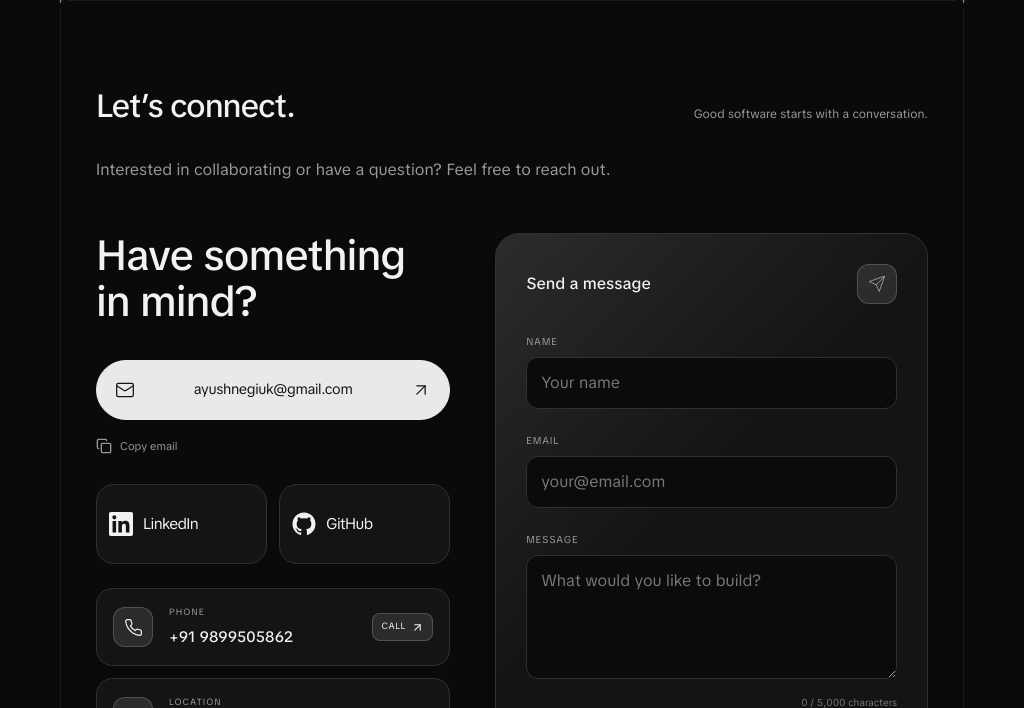
Test: Contact form › does not show success for an HTML fallback or a missing API confirmation
Type "  Dev Example  " into the field labelled "NAME" at (712, 383), box x1=526 y1=357 x2=897 y2=409
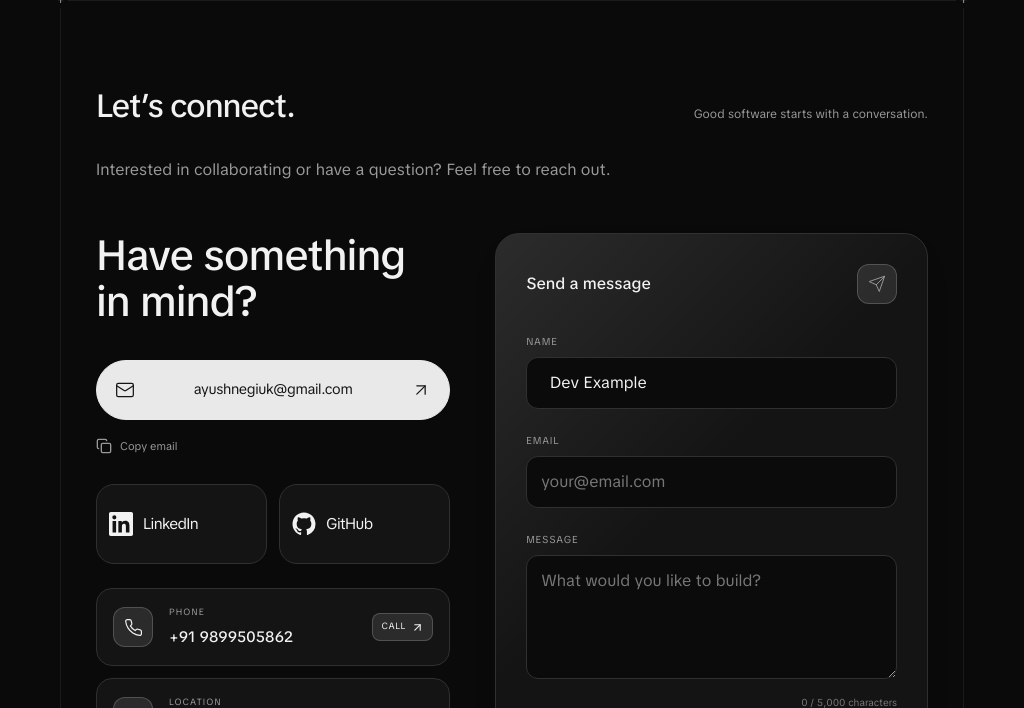
Type "dev@example.com" into the field labelled "EMAIL" at (712, 482), box x1=526 y1=456 x2=897 y2=508
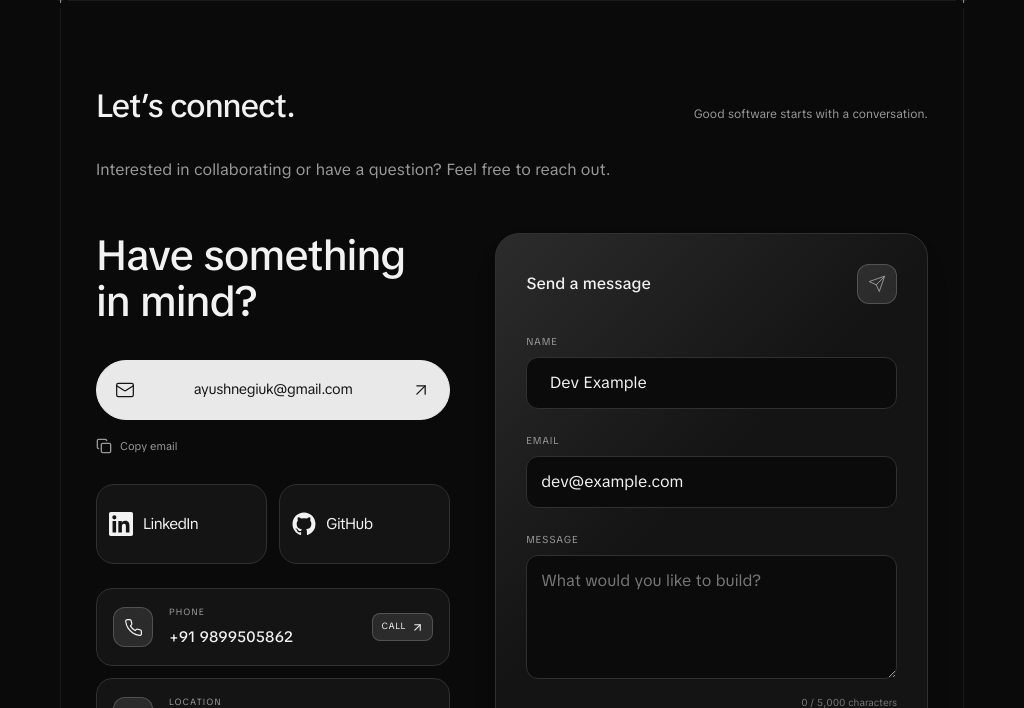
Type "  I would like to collaborate.  " into the text box labelled "MESSAGE" at (712, 617), box x1=526 y1=555 x2=897 y2=679
(page scrolled)
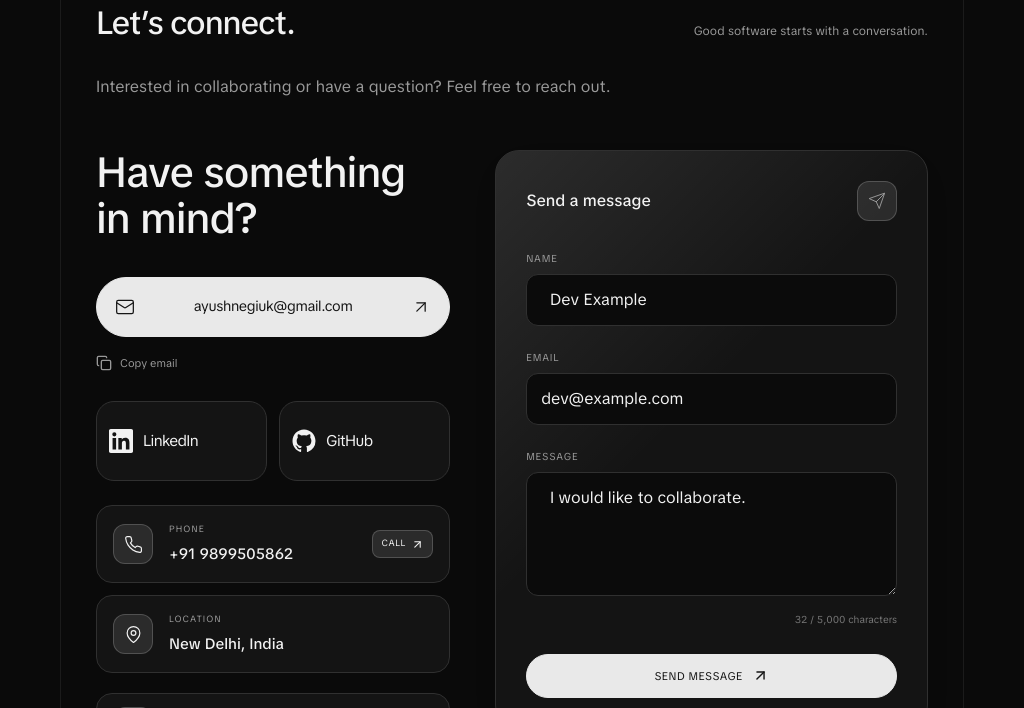
Submit the form "Send a message", box x1=526 y1=181 x2=897 y2=698
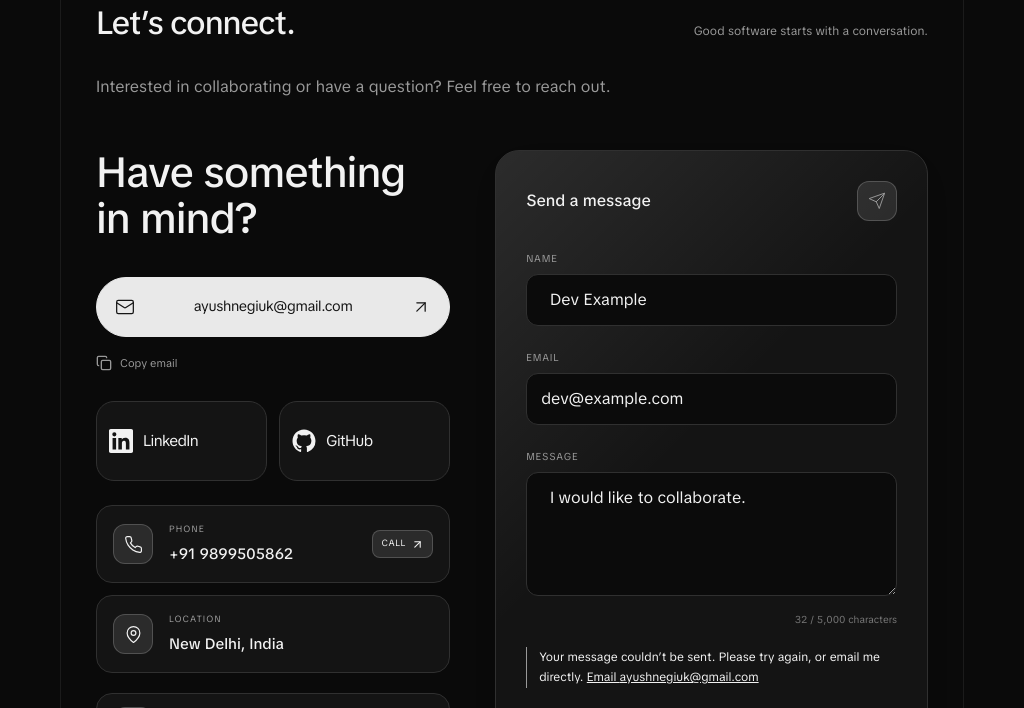
Expected: the message shows "couldn’t be sent", x1=539 y1=649 x2=880 y2=685
